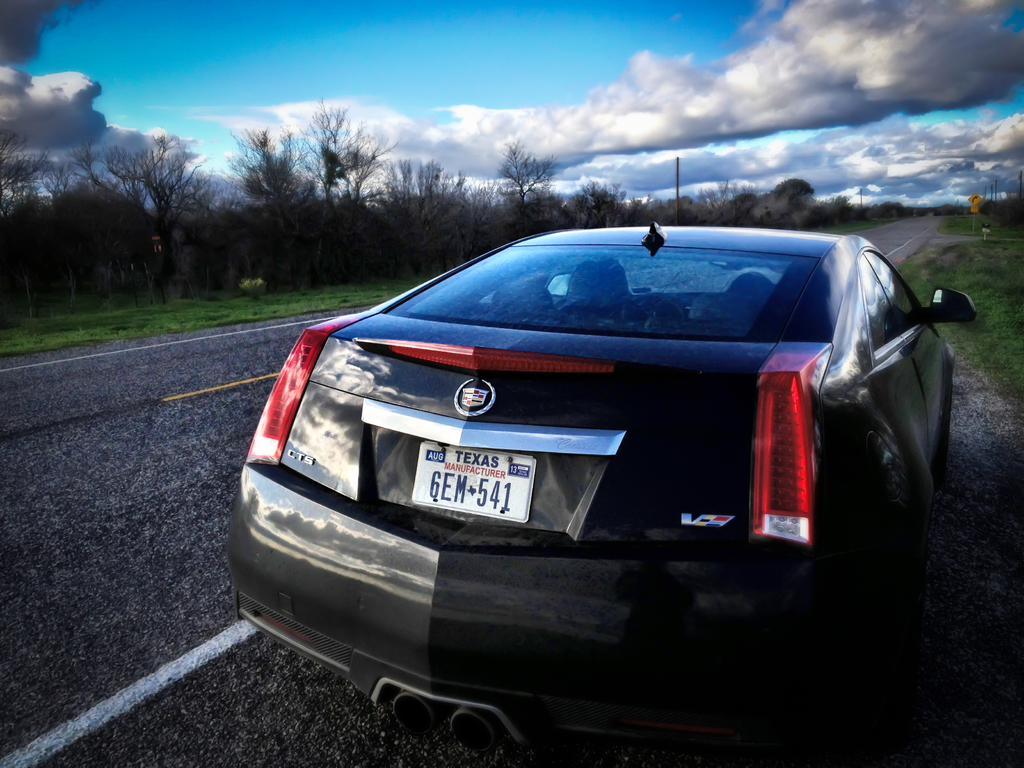person: (550, 254, 672, 324)
